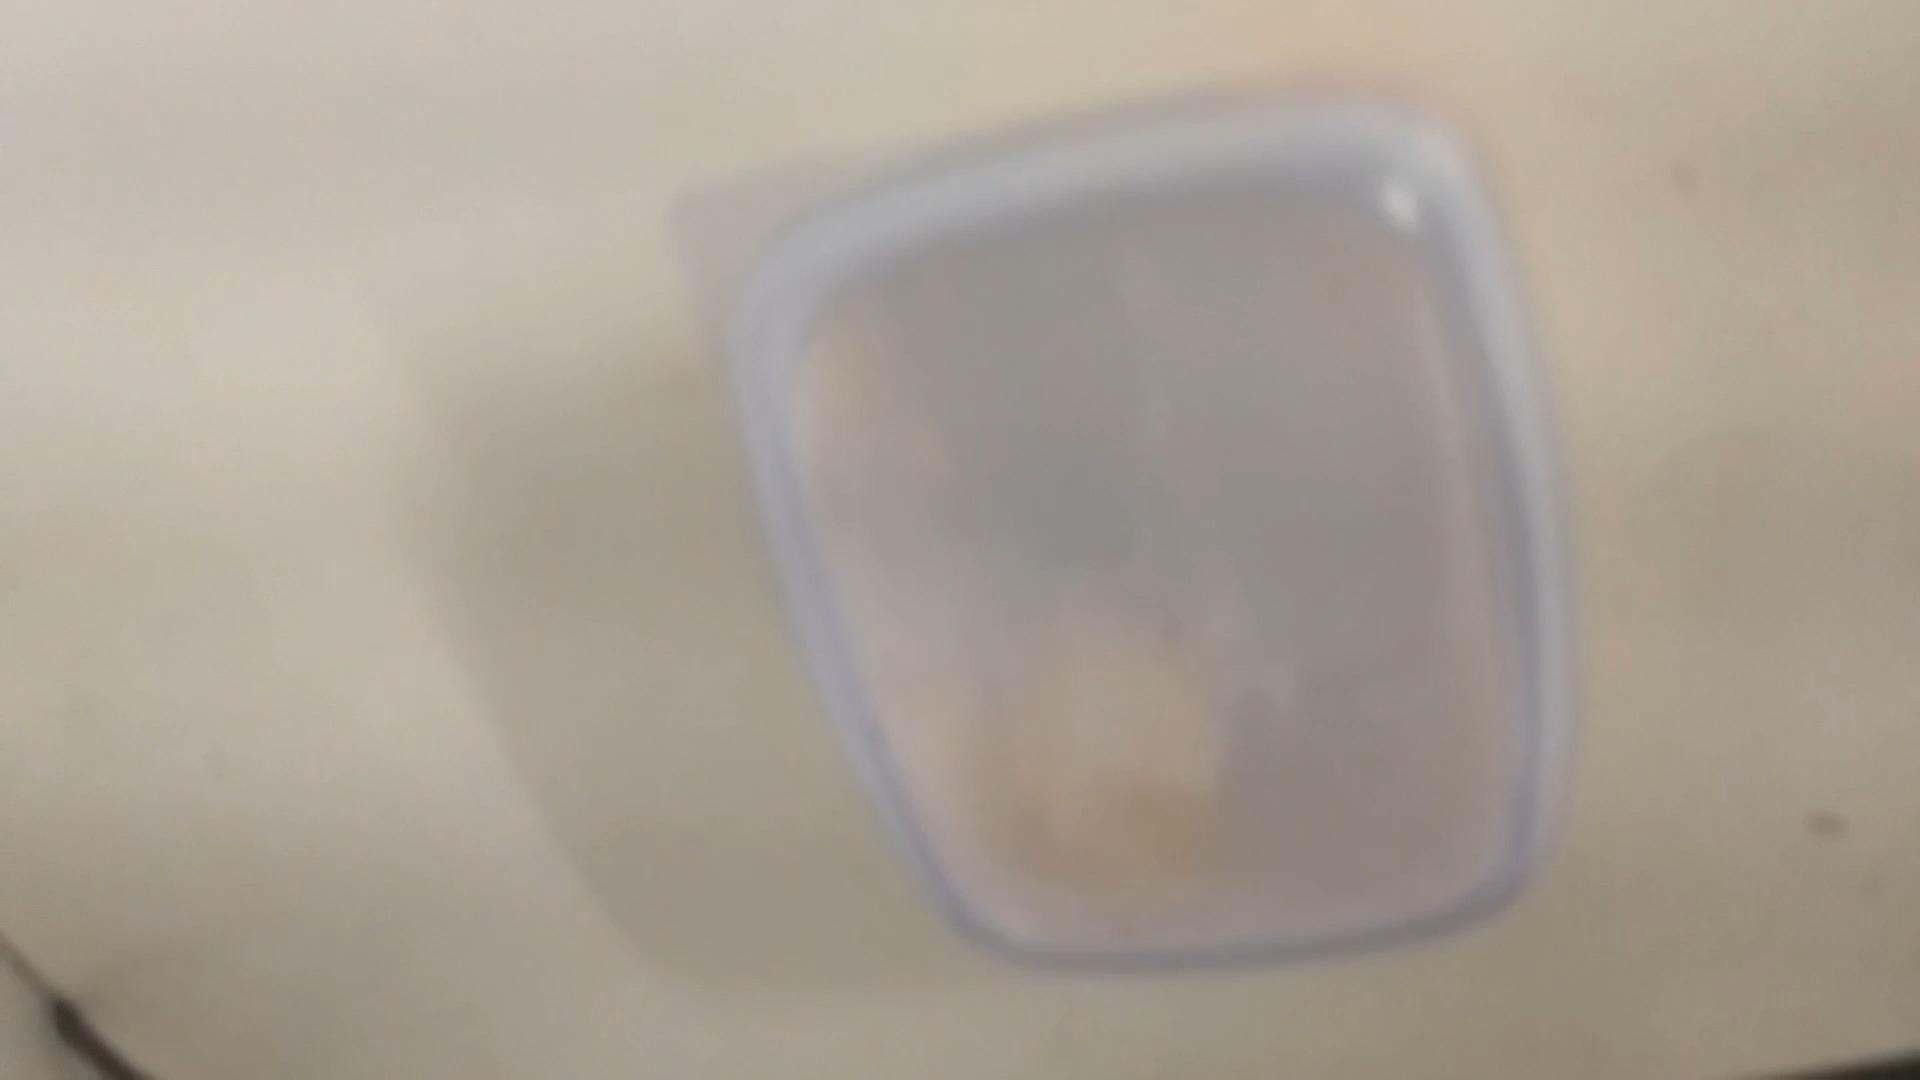butter: (716, 94, 1571, 982)
